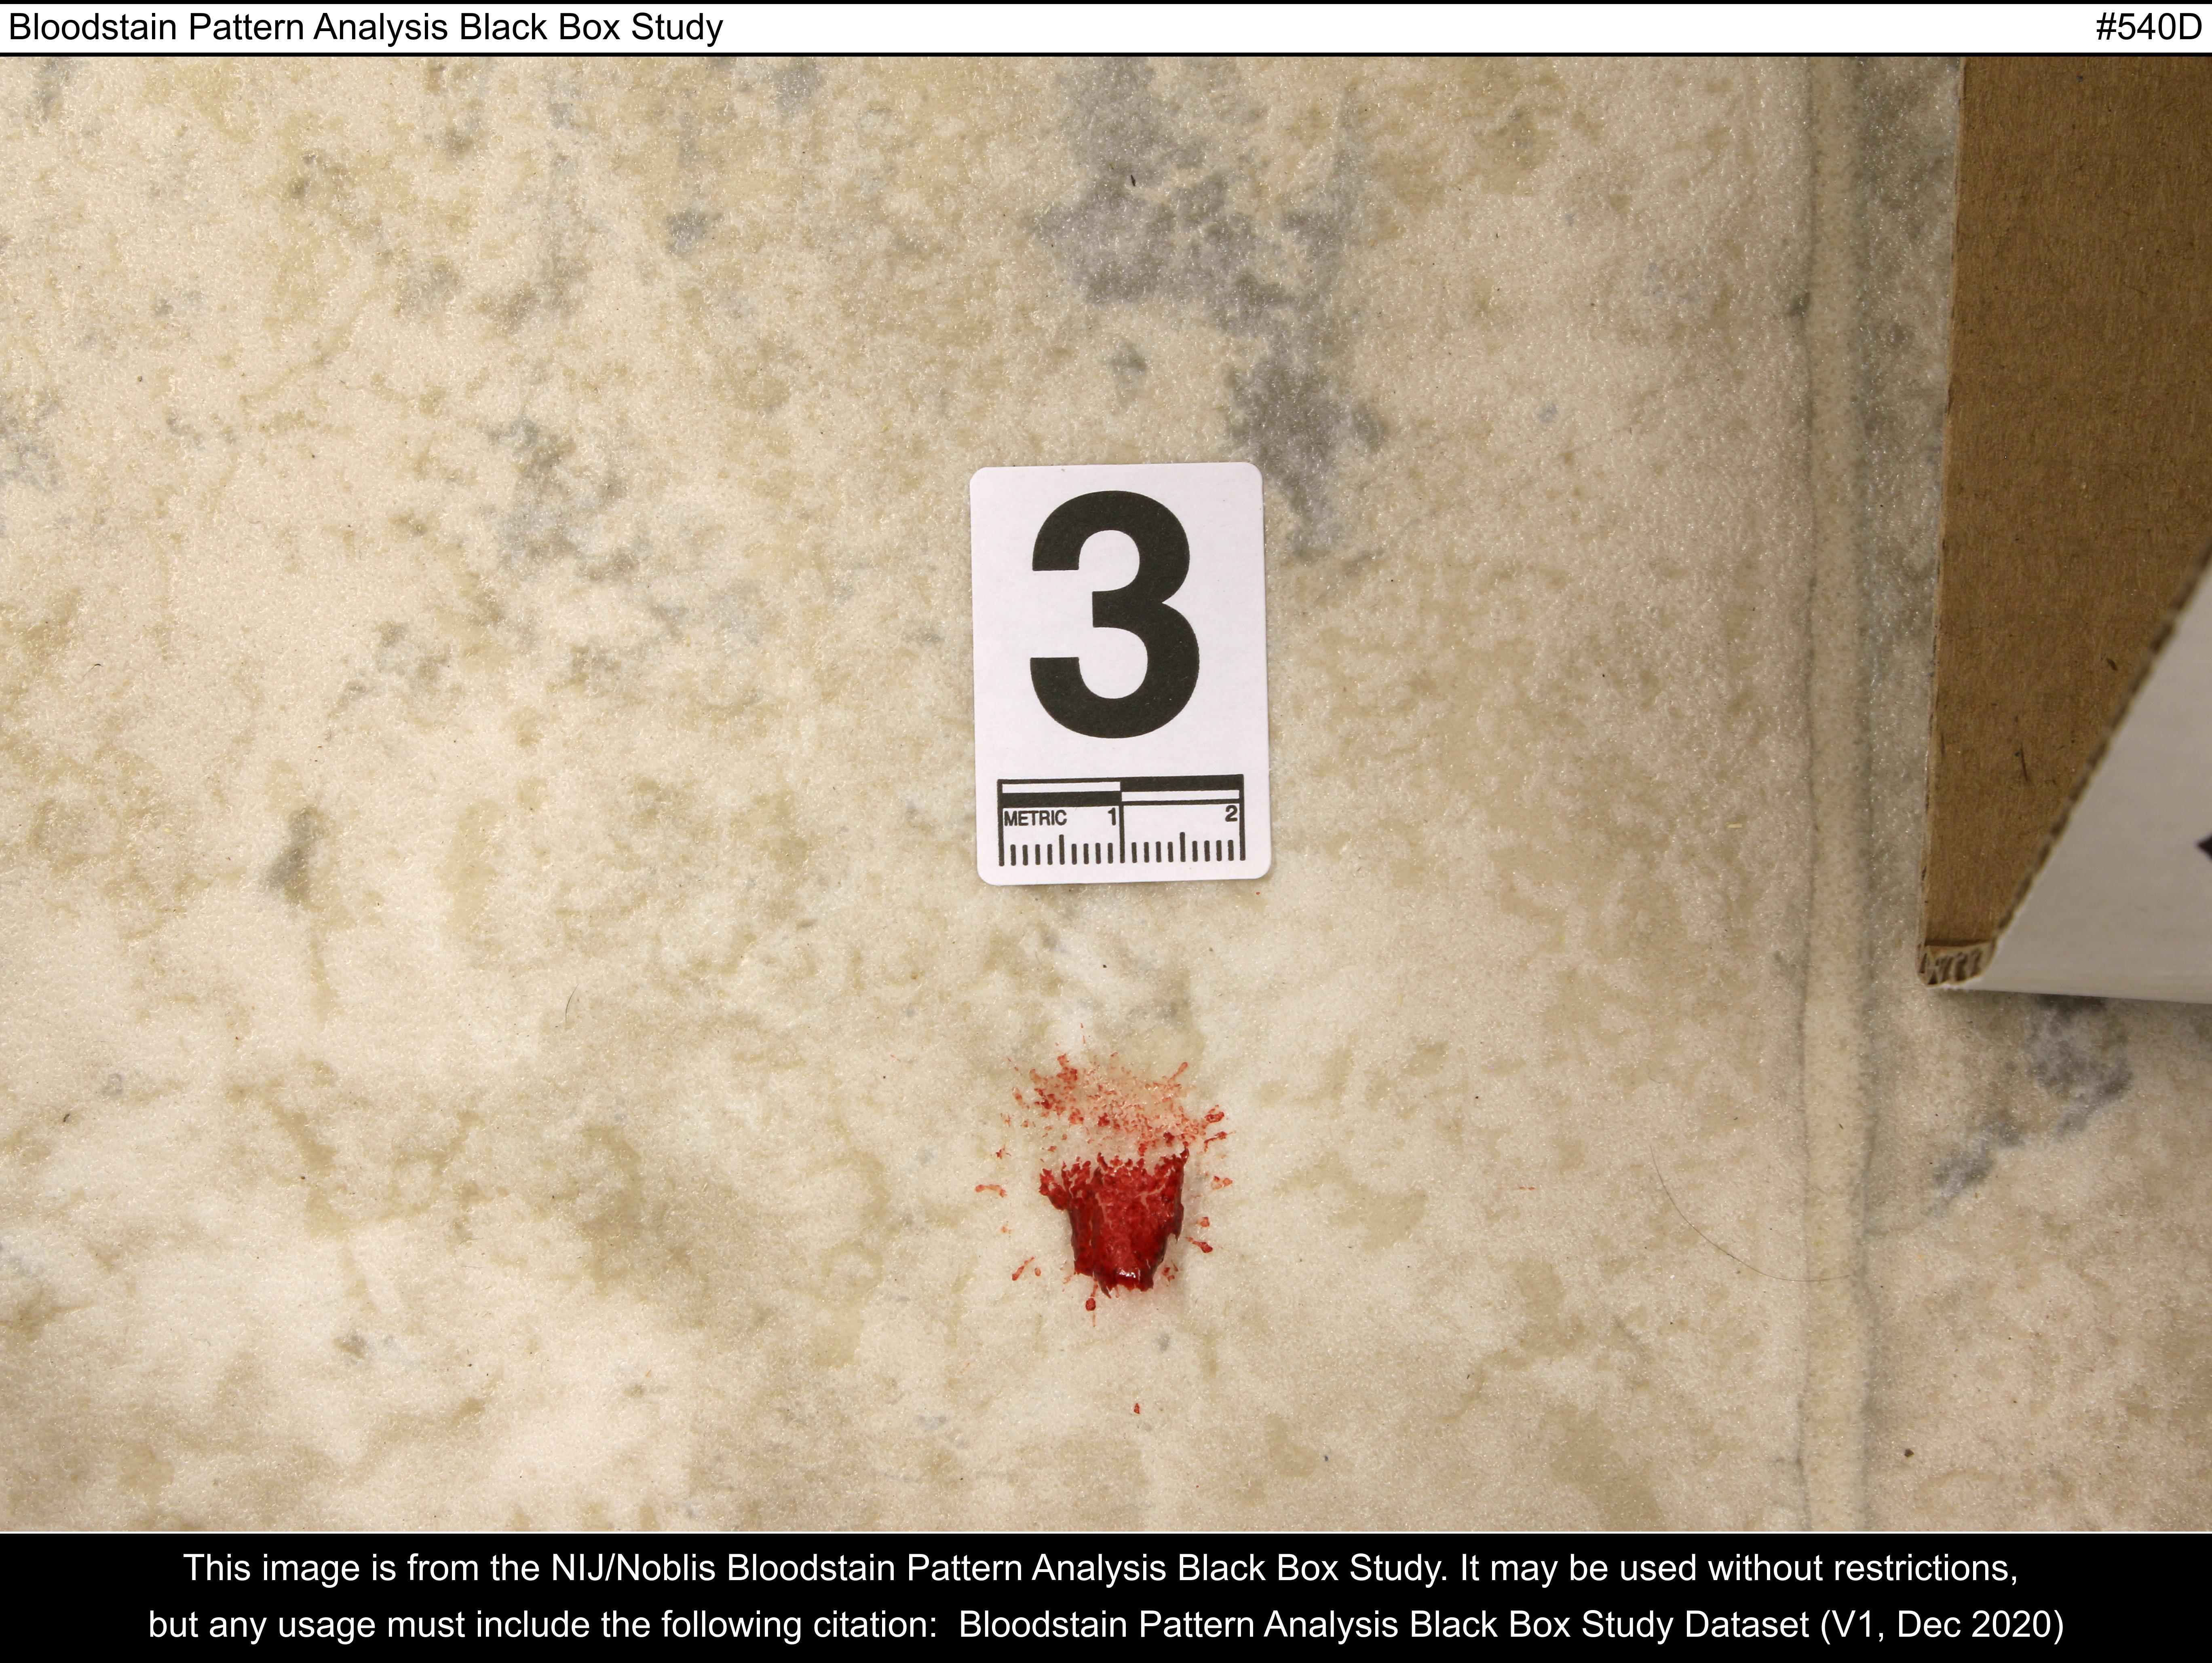Passive: (922, 1018, 1285, 1363)
